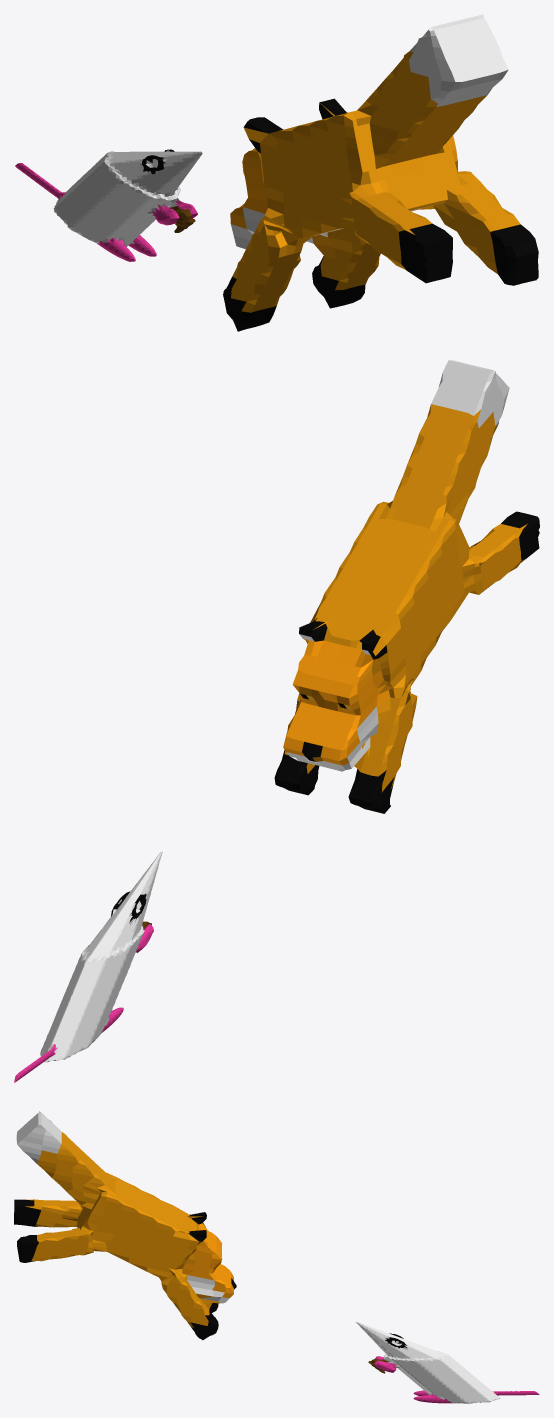
Rendered from MorphScene.glb.
3 views of the same model, one above another, from view 1: azimuth 30°, elevation 25°; view 2: azimuth 150°, elevation 25°; view 3: azimuth 270°, elevation 25° (orthographic). The views are drawn at different scales.
Visible parts, largest first — view 1: fox, rat; view 2: fox, rat; view 3: fox, rat.
Boxes of the visible parts, <box> form: fox: <box>223,14,538,331</box>; rat: <box>15,149,202,261</box>; fox: <box>274,360,539,813</box>; rat: <box>14,851,162,1082</box>; fox: <box>14,1111,236,1339</box>; rat: <box>356,1322,539,1403</box>.
Size of the model in its own units: 1.5 by 5.36 by 9.57.
